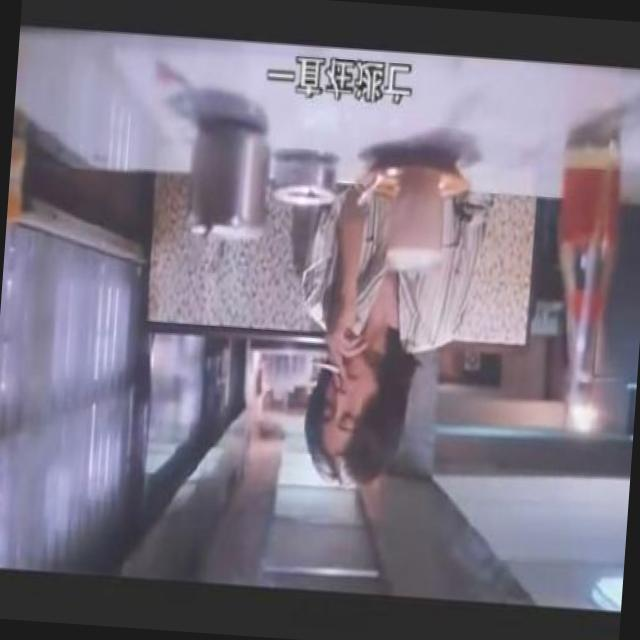cigarette: (306, 351, 340, 382)
